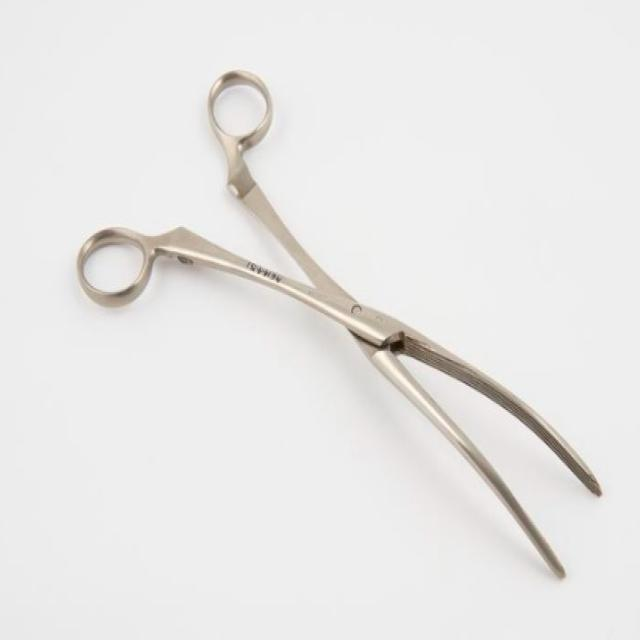Doyel Instestinal Forceps: (73, 57, 604, 588)
